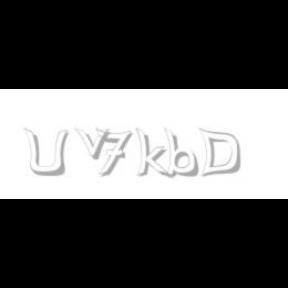7: (96, 128, 132, 178)
D: (198, 128, 240, 178)
U: (22, 128, 68, 178)
b: (164, 128, 202, 178)
k: (135, 128, 173, 180)
v: (74, 128, 114, 160)
